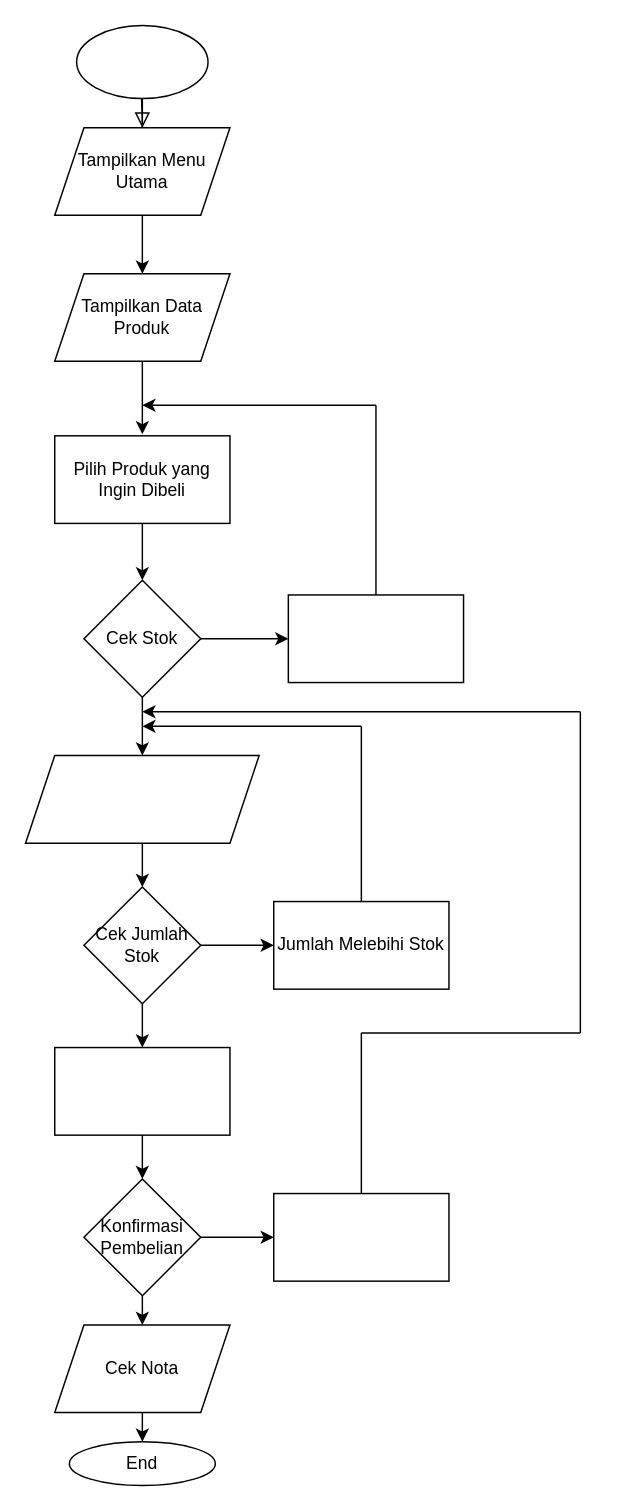
This 618x1511 diagram has some shape labels left out. Each missing label, with the centre of its shape:
"Stok Habis": (x=375, y=638)
Hitung Total Harga: (x=141, y=1090)
Kurangi Stok: (x=360, y=1236)
Masukkan Jumlah Produk yang Ingin Dibeli: (x=141, y=798)
start: (x=141, y=61)
